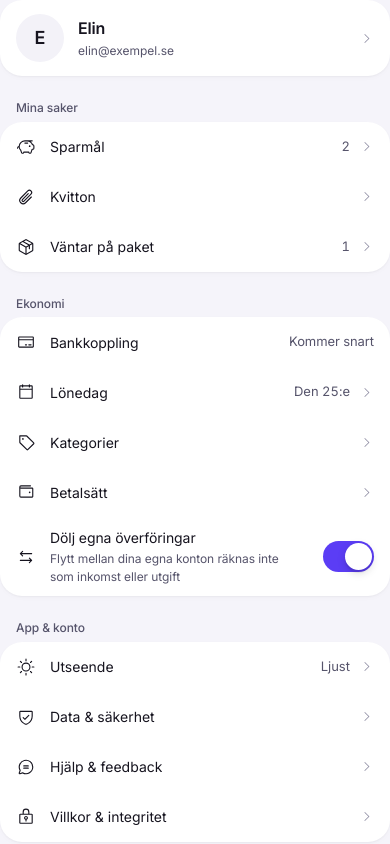
Test case: inställningar – lönedag › utan styrning från föräldern byter listan själv till undersidan
Click the button "Lönedag Den 25:e".
click(79, 392)  # box [0,367,389,417]
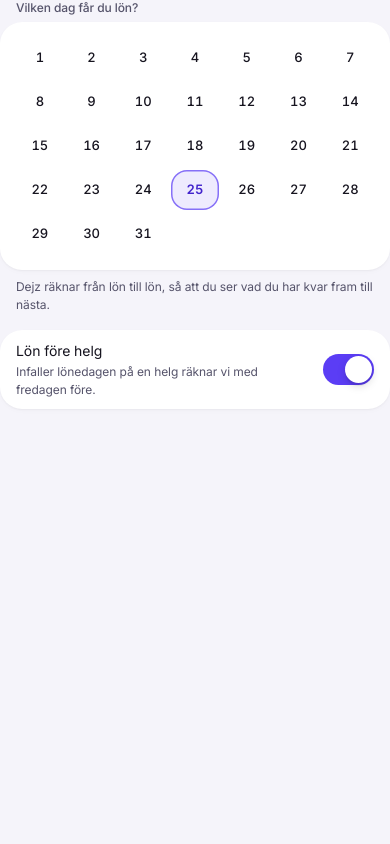
Expected: the switch named "Lön före helg" is shown, [323,354,374,385]
